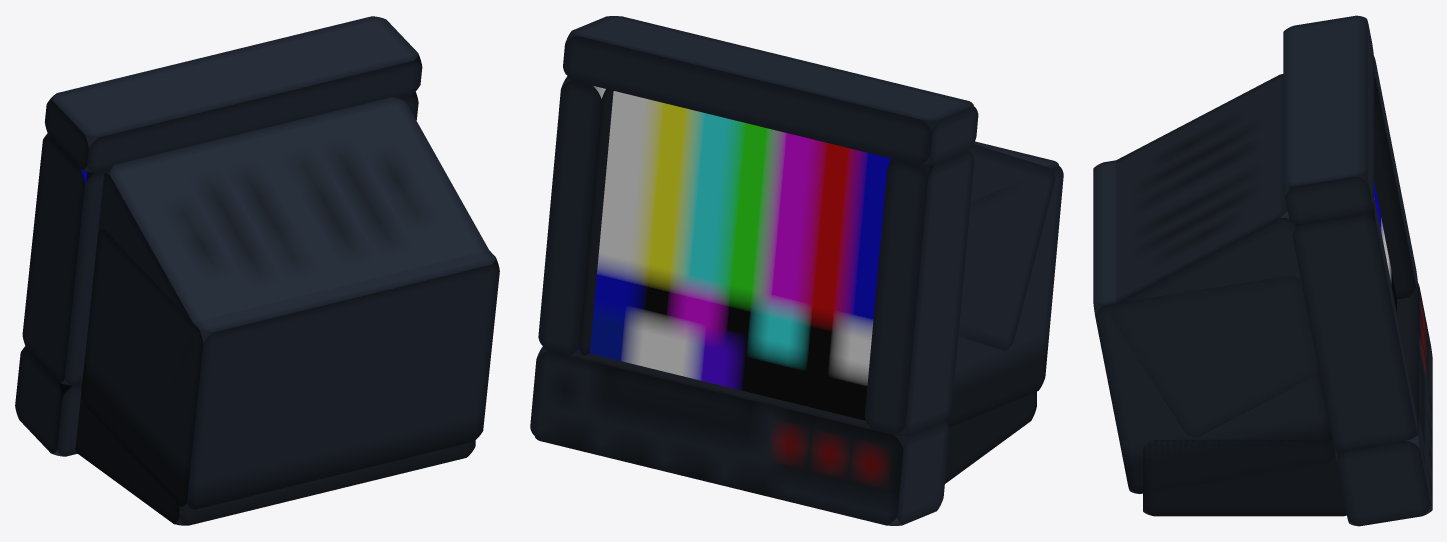
File: television.obj
3 renders of one model, left to right at view 1: azimuth 30°, elevation 25°; view 2: azimuth 150°, elevation 25°; view 3: azimuth 270°, elevation 25°, orthographic. The views are drawn at different scales.
Parts seen in each view (by area): view 1: mesh; view 2: mesh, screen; view 3: mesh, screen.
Part boxes in pixels (box(x1,y1,x2,y2)): mesh: box(15, 16, 499, 525); mesh: box(530, 16, 1063, 525); screen: box(577, 86, 919, 435); mesh: box(1093, 15, 1432, 526); screen: box(1374, 181, 1396, 312).
Size of the model in its own units: 1.12 by 1.15 by 1.
Materials: 1 (1 with a texture image).
